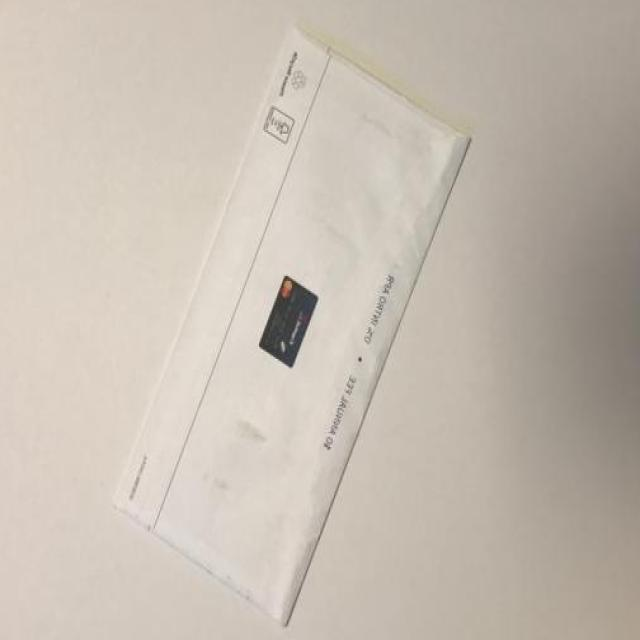kertas: (111, 18, 473, 629)
